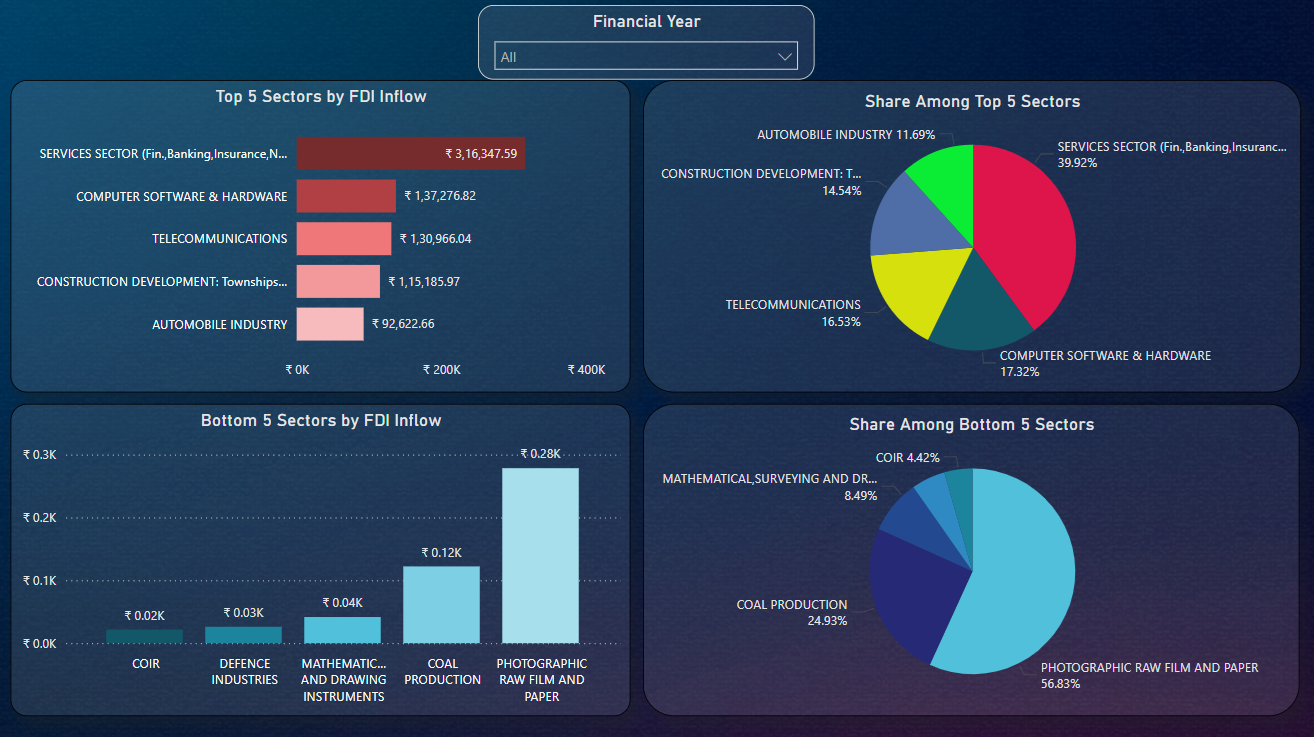

This screenshot's page, from the dashboard's own definition file:
{"tool":"powerbi","page":{"name":"Top & Bottom Sectors","canvas":[1280,720],"ordinal":1},"visuals":[{"type":"clusteredBarChart","title":"Top 5 Sectors by FDI Inflow","fields":{"Category":["Sheet1.Sector"],"Y":["Imp Insights.Top 5 Sectors"]},"box":[17,82.2,598.1,301.9],"z":0},{"type":"slicer","title":"Financial Year","fields":{"Values":["Sheet1.FY"]},"box":[467.7,9.9,324.6,72.3],"z":1000},{"type":"pieChart","title":"Share Among Top 5 Sectors","fields":{"Category":["Sheet1.Sector"],"Y":["Imp Insights.Top 5 Sectors"]},"box":[627.9,82.2,635,301.9],"z":2000},{"type":"clusteredColumnChart","title":"Bottom 5 Sectors by FDI Inflow","fields":{"Category":["Sheet1.Sector"],"Y":["Imp Insights.Bottom 5 Sectors"]},"box":[17,394,598.1,301.9],"z":3000},{"type":"pieChart","title":"Share Among Bottom 5 Sectors","fields":{"Y":["Imp Insights.Bottom 5 Sectors"],"Category":["Sheet1.Sector"]},"box":[627.9,394,633.5,301.9],"z":4000}]}

Visuals, with their boxes in screenshot pixels (x1, y1, x2, y2), scaled from the page's 1280x720 canvas onto the 1314x737 screenshot:
"Top 5 Sectors by FDI Inflow" clusteredBarChart: 17, 84, 631, 393
"Financial Year" slicer: 480, 10, 813, 84
"Share Among Top 5 Sectors" pieChart: 645, 84, 1296, 393
"Bottom 5 Sectors by FDI Inflow" clusteredColumnChart: 17, 403, 631, 712
"Share Among Bottom 5 Sectors" pieChart: 645, 403, 1295, 712
